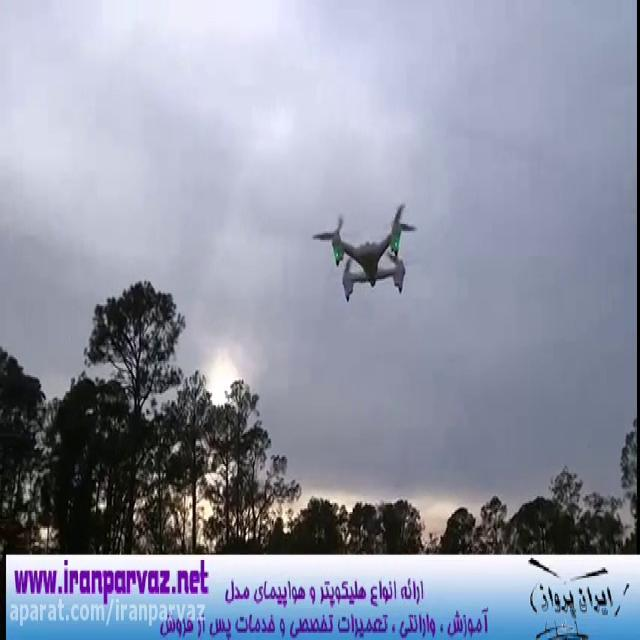drone: (308, 192, 420, 309)
